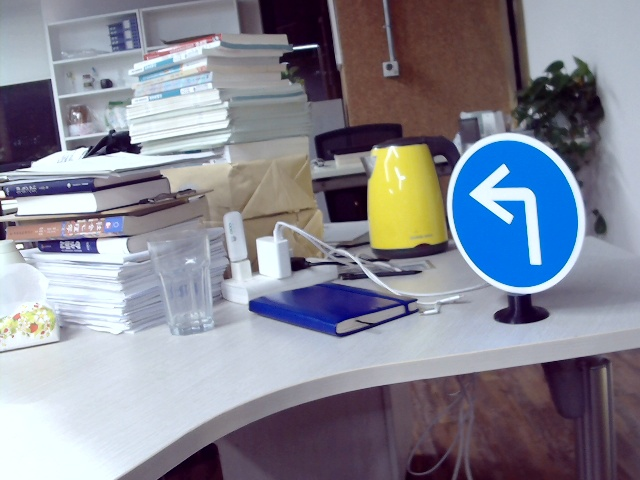turn_left: (469, 160, 548, 267)
